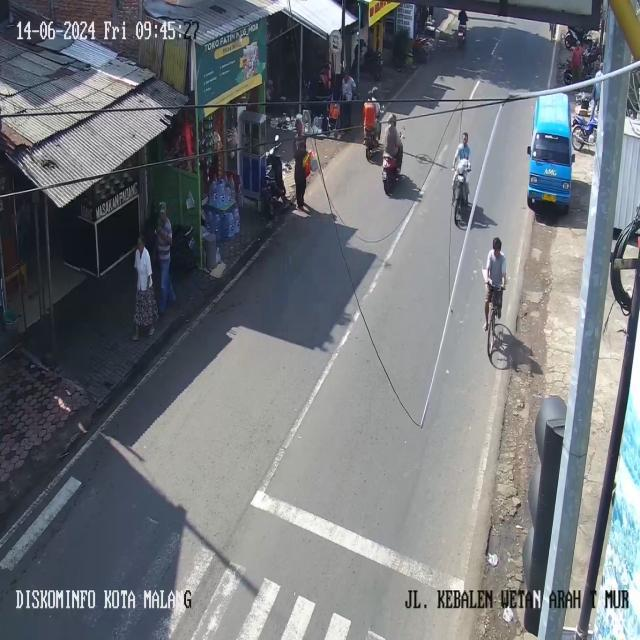Helmet: (388, 114, 396, 124)
Number Plate: (542, 194, 556, 202)
Rearview Mirror: (274, 134, 279, 142), (571, 153, 575, 163), (527, 146, 530, 155)
